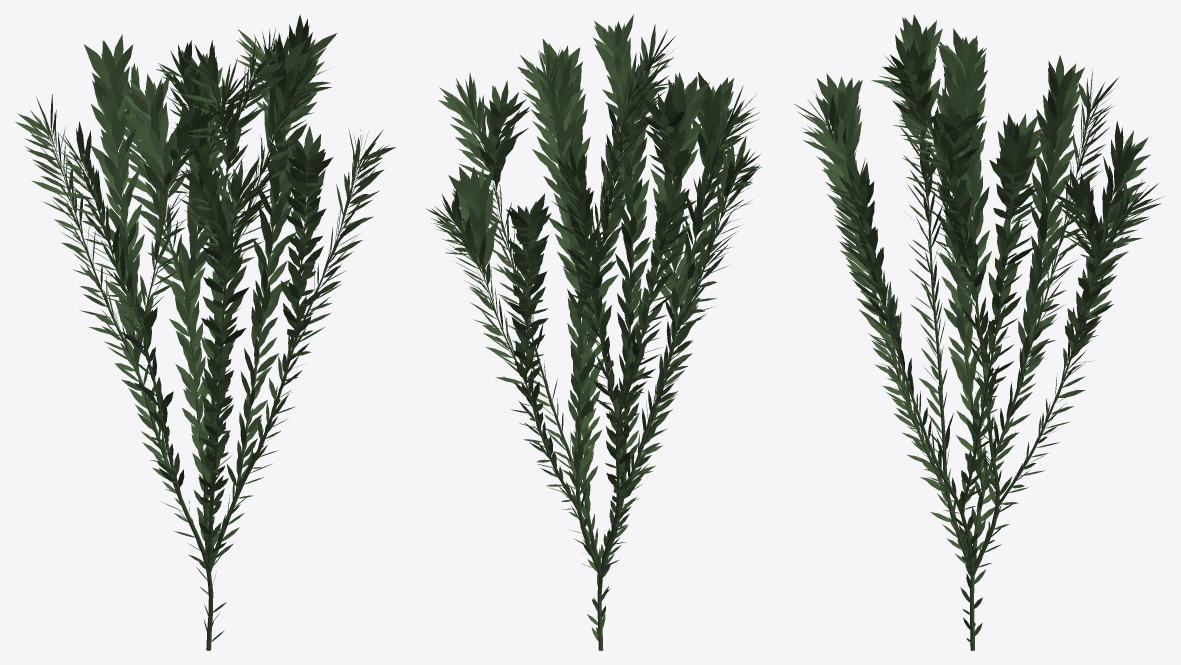
File: bush3.glb
3 views of the same model, side by side, from view 1: azimuth 30°, elevation 25°; view 2: azimuth 150°, elevation 25°; view 3: azimuth 270°, elevation 25° (orthographic). The views are drawn at different scales.
Parts seen in each view (by area): view 1: tree; view 2: tree; view 3: tree.
Part boxes in pixels (x1,y1,x2,y2): tree: [15, 14, 395, 650]; tree: [426, 14, 761, 650]; tree: [793, 14, 1163, 650].
Bounding box in the file's own units: 2.71 × 5.24 × 2.86.
Materials: 1 (1 with a texture image).
